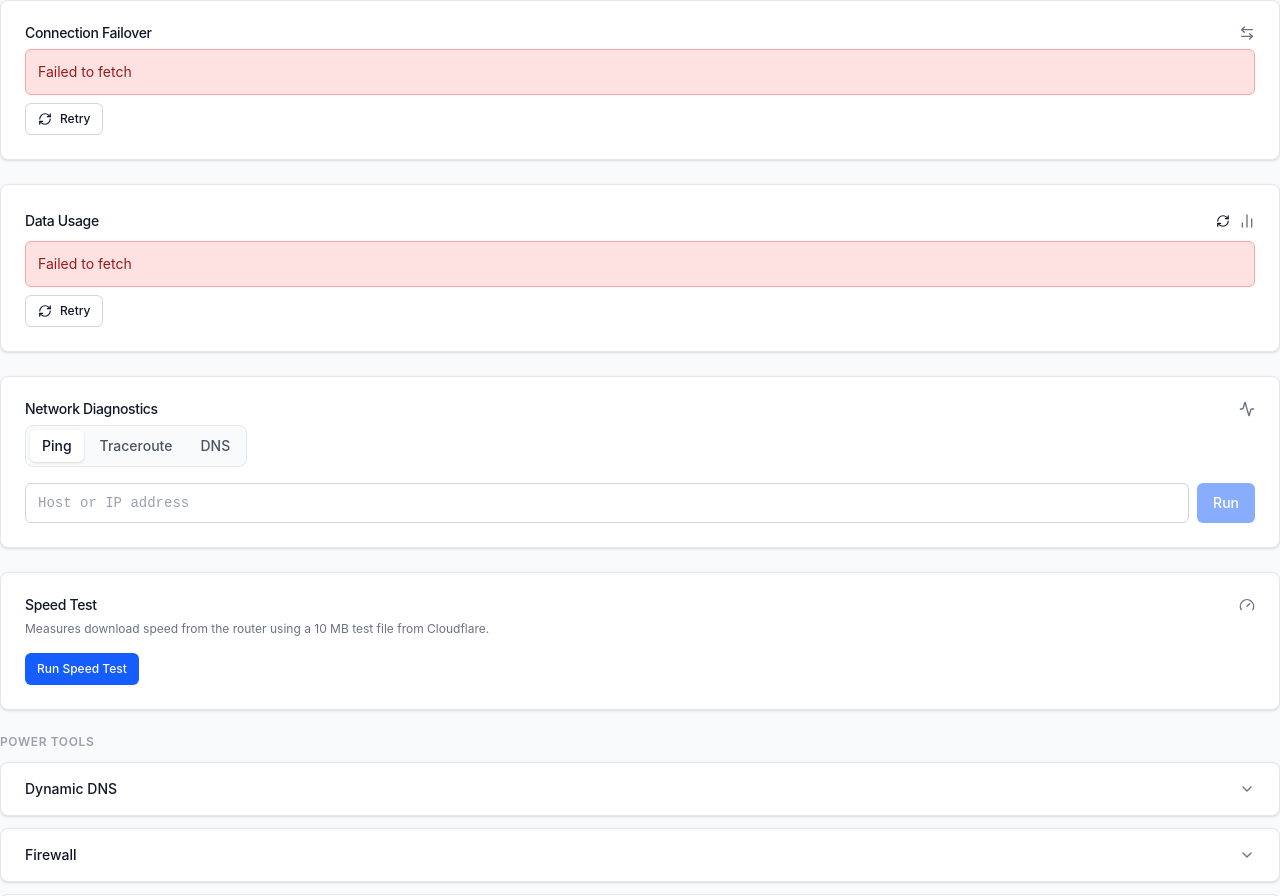
Test: NetworkPage › keeps Failover and traveler tools open; collapses power tools
Expected: the heading "Connection Failover" is shown, top-left (25, 26), bottom-right (152, 40)
Expected: the button "Run Speed Test" is shown, top-left (25, 653), bottom-right (139, 685)
Click the button "Firewall".
click(51, 854)  # box top-left (1, 829), bottom-right (1279, 881)
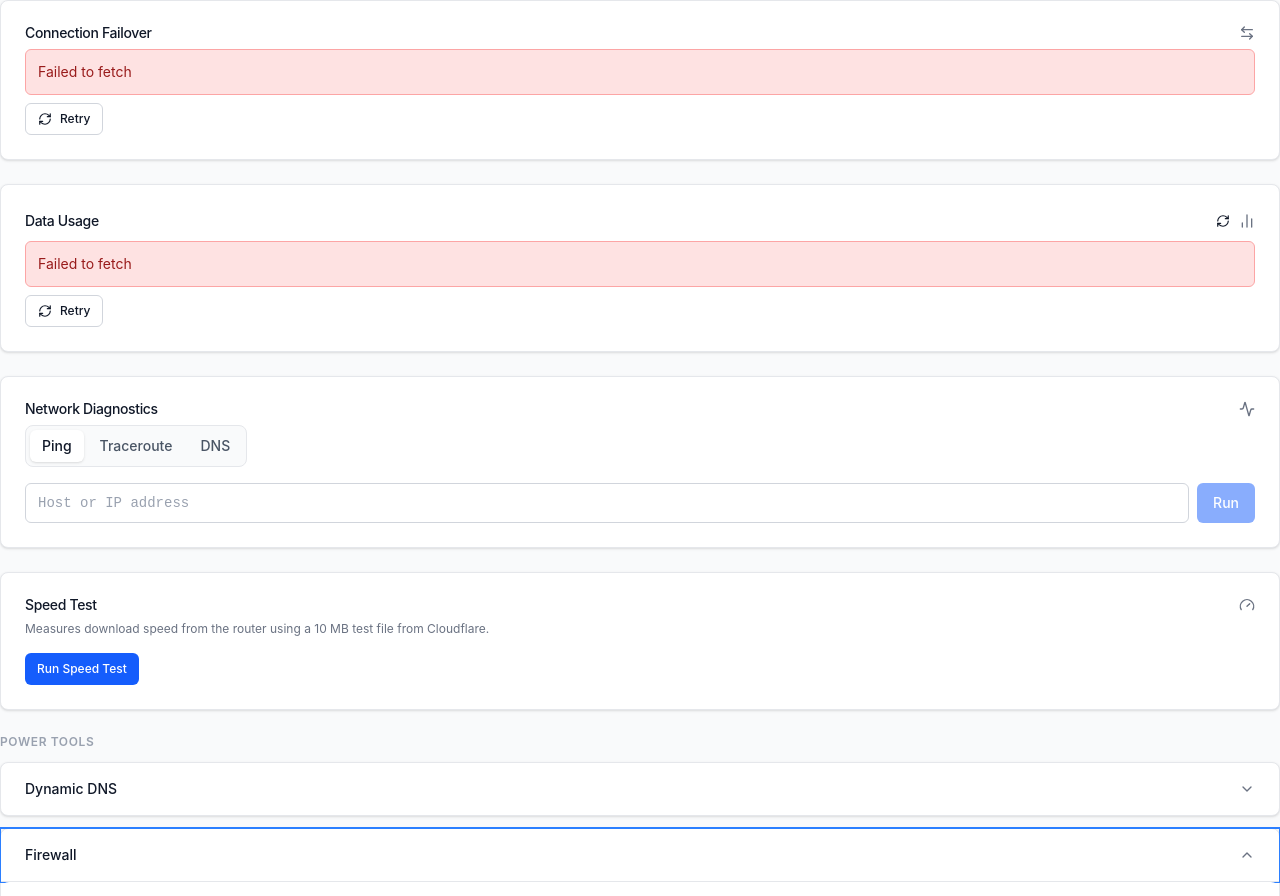
Now the button "Firewall" is expanded, box top-left (1, 829), bottom-right (1279, 881)
